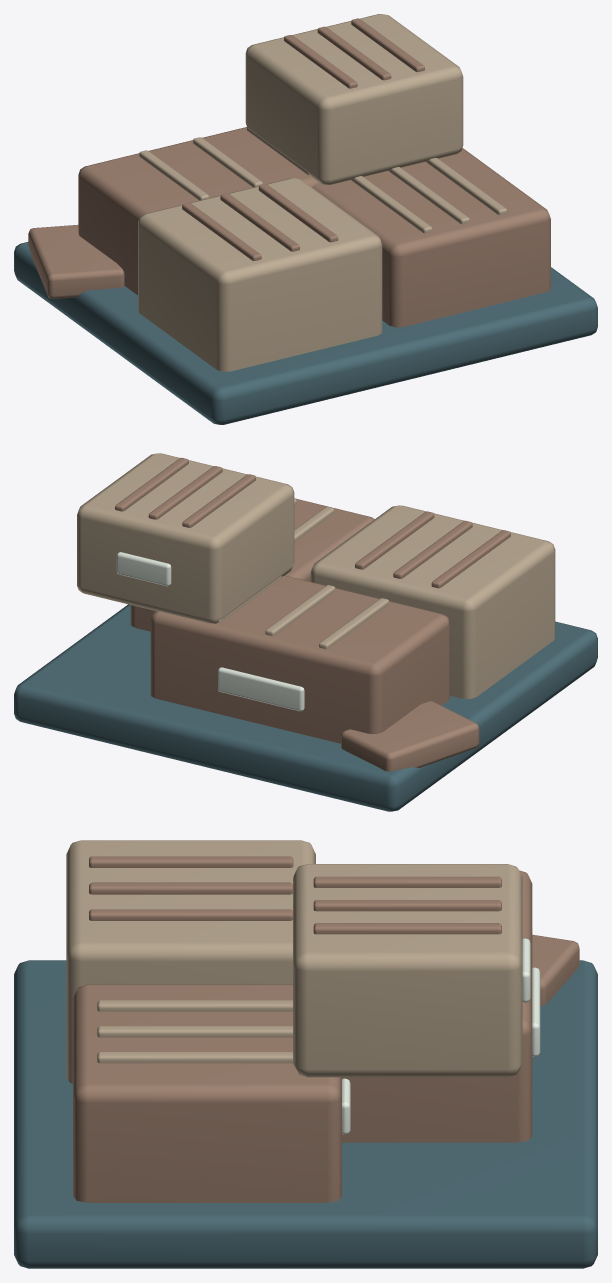
Rendered from industrial-cargo-stacks.glb.
3 views of the same model, one above another, from view 1: azimuth 30°, elevation 25°; view 2: azimuth 150°, elevation 25°; view 3: azimuth 270°, elevation 25° (orthographic). The views are drawn at different scales.
Visible parts, largest first — view 1: Cargo container, Cargo yard scatter base, Cargo container.003, Cargo container.001, Cargo container.002, Broken pallet, Container roof rib.001, Container roof rib, Container roof rib.002, Container roof rib.003, Container roof rib.004, Container roof rib.005 (+5 smaller); view 2: Cargo yard scatter base, Cargo container.002, Cargo container.003, Cargo container, Broken pallet, Cargo container.001, Container identification plate.002, Container identification plate.003, Container roof rib, Container roof rib.001, Container roof rib.002, Container roof rib.010 (+5 smaller); view 3: Cargo yard scatter base, Cargo container.001, Cargo container.003, Cargo container, Cargo container.002, Container roof rib.001, Container roof rib, Container roof rib.002, Container roof rib.004, Container roof rib.003, Container roof rib.005, Broken pallet (+5 smaller).
Boxes of the visible parts, x1,y1,x2,y2 form: Cargo container: (138,178,382,371); Cargo yard scatter base: (14,242,597,424); Cargo container.003: (245,14,463,184); Cargo container.001: (312,148,550,327); Cargo container.002: (78,127,318,295); Broken pallet: (28,225,124,298); Container roof rib.001: (220,193,299,251); Container roof rib: (182,203,261,260); Container roof rib.002: (258,184,338,242); Container roof rib.003: (351,176,432,233); Container roof rib.004: (388,167,469,224); Container roof rib.005: (426,158,507,214); Cargo yard scatter base: (14,604,597,811); Cargo container.002: (150,575,449,743); Cargo container.003: (77,453,294,623); Cargo container: (310,505,555,698); Broken pallet: (341,701,479,771); Cargo container.001: (130,498,374,631); Container identification plate.002: (218,667,304,711); Container identification plate.003: (116,552,171,586); Container roof rib: (431,530,510,588); Container roof rib.001: (393,520,472,578); Container roof rib.002: (355,511,434,569); Container roof rib.010: (148,466,222,519); Cargo yard scatter base: (14,960,597,1268); Cargo container.001: (73,984,341,1202); Cargo container.003: (293,864,522,1077); Cargo container: (66,840,315,1083); Cargo container.002: (342,870,532,1142); Container roof rib.001: (89,882,292,894); Container roof rib: (89,856,293,867); Container roof rib.002: (89,909,292,920); Container roof rib.004: (97,1026,292,1037); Container roof rib.003: (97,1000,292,1011); Container roof rib.005: (97,1052,292,1063); Broken pallet: (532,934,579,1005).
Size of the model in its own units: 2.03 by 1 by 1.78.
